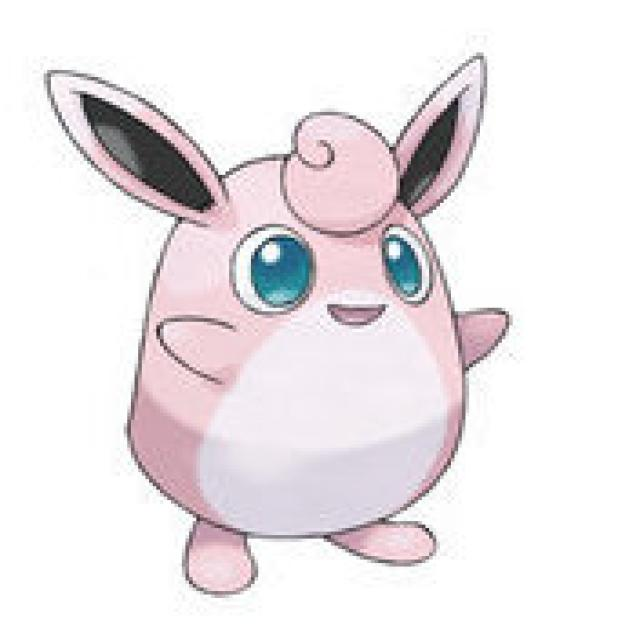Wigglytuff: (32, 33, 537, 630)
